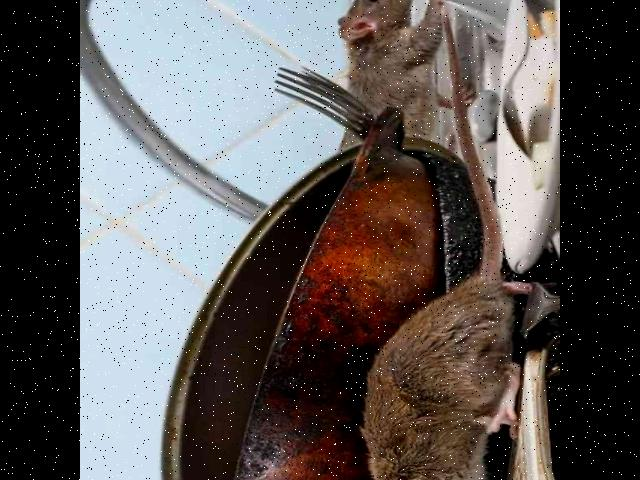Tikus: (356, 256, 534, 480), (334, 0, 456, 105)
